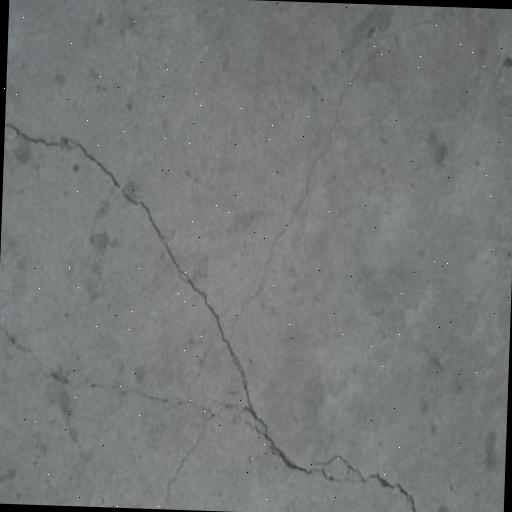spalling: (8, 100, 441, 512)
